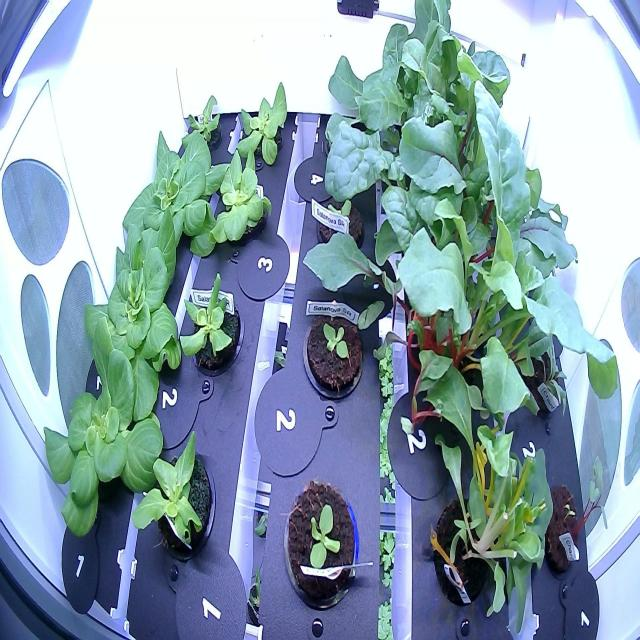germination: (520, 328, 572, 433)
young: (30, 310, 166, 553), (71, 209, 191, 433), (117, 116, 233, 278), (132, 418, 220, 573), (275, 467, 362, 615), (170, 264, 248, 381), (294, 290, 366, 410), (204, 144, 277, 258), (226, 73, 292, 172), (307, 184, 367, 266), (175, 87, 231, 167)
